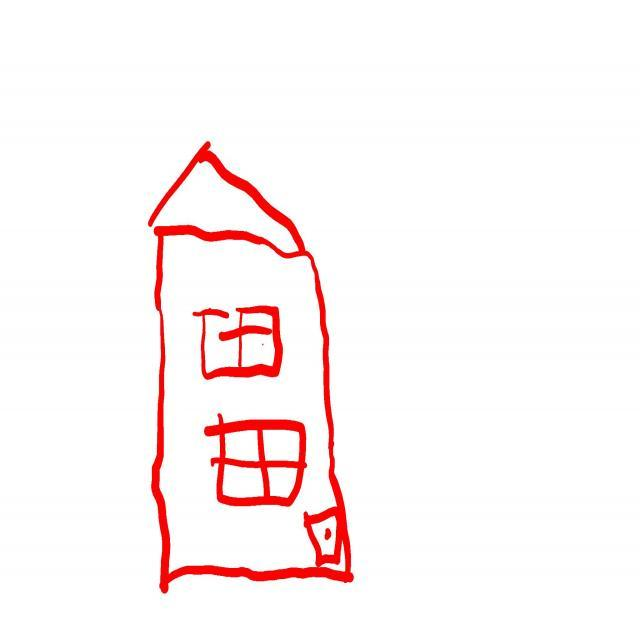door: (304, 508, 348, 568)
house: (148, 142, 353, 592)
roof: (146, 142, 306, 255)
wall: (152, 234, 348, 589)
window: (204, 415, 307, 508), (193, 307, 283, 380)
